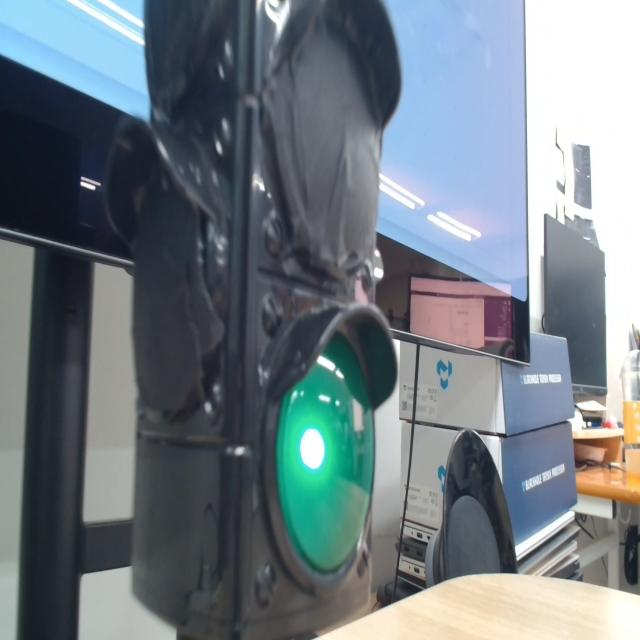green_light: (277, 335, 374, 573), (300, 429, 324, 469)
